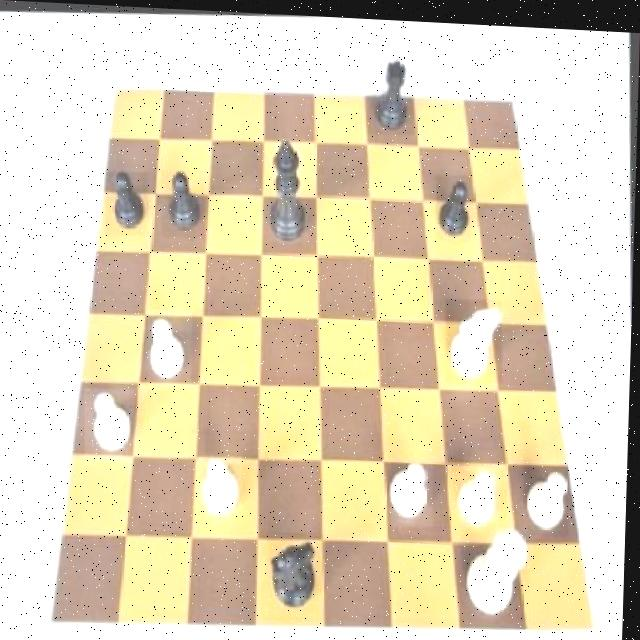black-bishop: (264, 134, 311, 242)
black-king: (263, 527, 329, 620)
black-knight: (161, 165, 207, 237), (105, 169, 151, 237), (435, 168, 473, 237)
black-queen: (365, 47, 417, 132)
white-bishop: (463, 515, 534, 619)
white-king: (446, 292, 507, 379)
white-knight: (85, 385, 140, 463), (148, 305, 194, 387), (527, 457, 573, 532), (388, 455, 438, 524), (201, 449, 248, 522), (457, 462, 506, 528)
